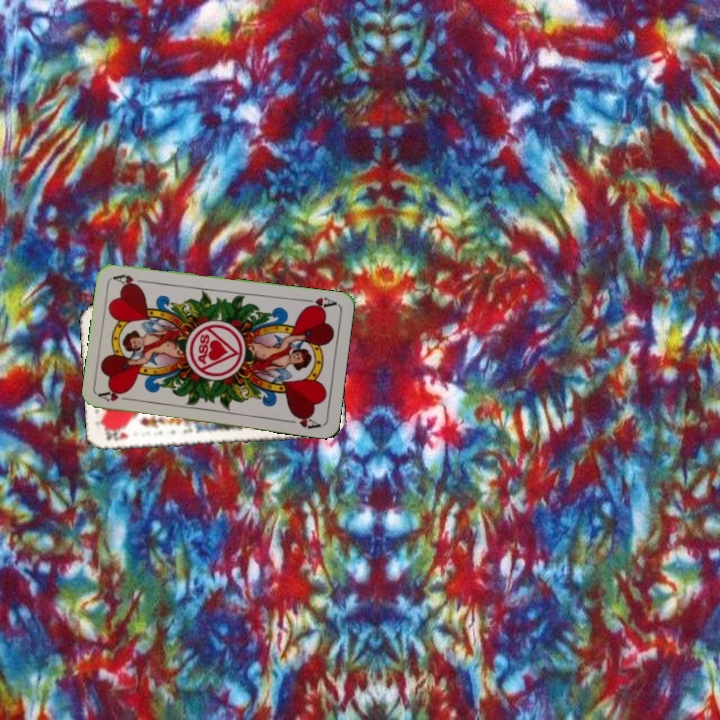HA: (298, 293, 339, 313), (96, 387, 136, 404)
HK: (102, 427, 131, 444)
